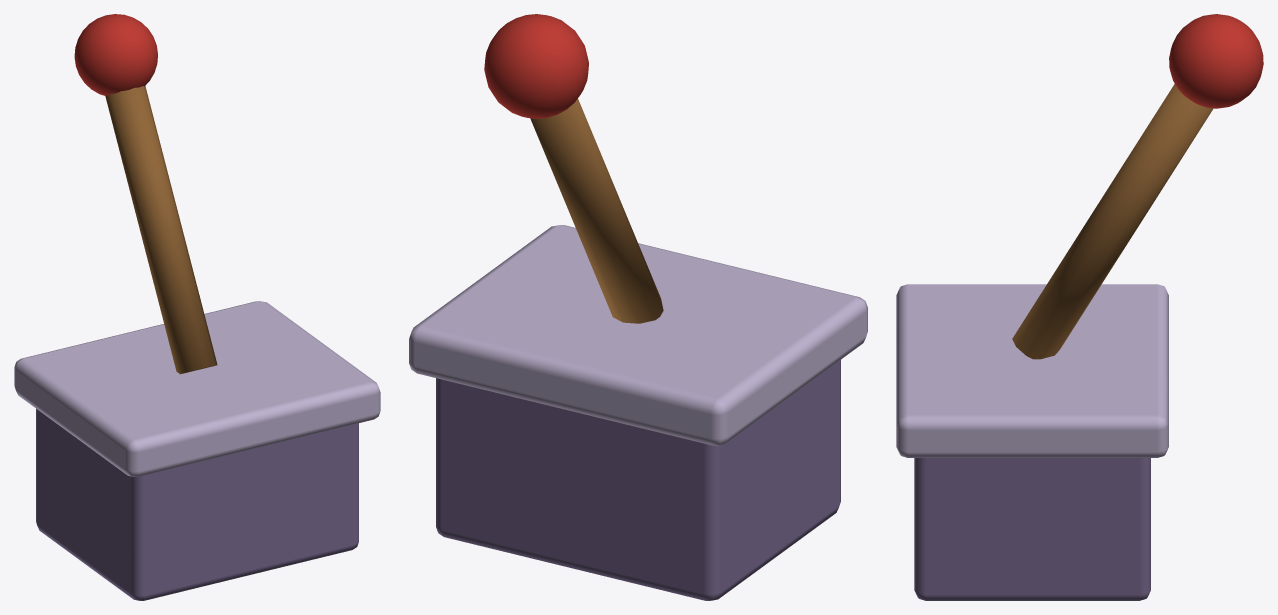
Rendered from alavanca.glb.
3 views of the same model, side by side, from view 1: azimuth 30°, elevation 25°; view 2: azimuth 150°, elevation 25°; view 3: azimuth 270°, elevation 25° (orthographic). The views are drawn at different scales.
Visible parts, largest first — view 1: Base, HasteMalha; view 2: Base, HasteMalha; view 3: Base, HasteMalha.
Boxes of the visible parts, x1,y1,x2,y2 form: Base: (14, 301, 380, 600); HasteMalha: (74, 14, 217, 374); Base: (409, 225, 867, 600); HasteMalha: (484, 14, 663, 323); Base: (896, 284, 1168, 600); HasteMalha: (1012, 14, 1263, 359).
Bounding box in the file's own units: 0.56 × 0.9767 × 0.6198.
